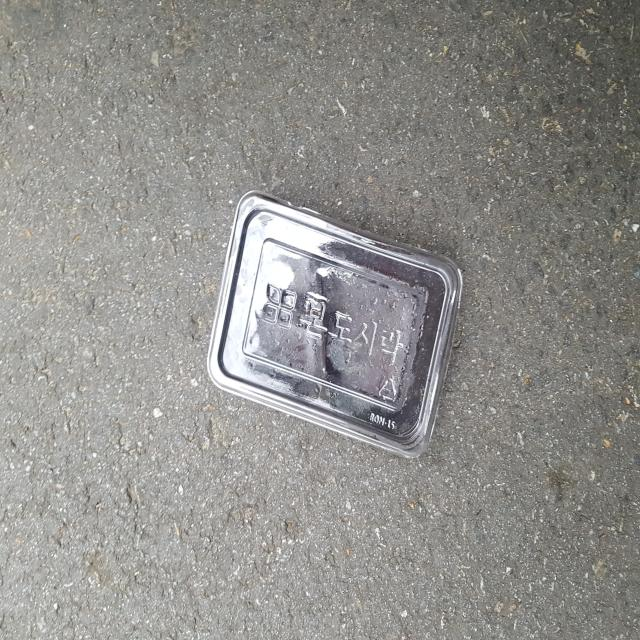plastic: (206, 192, 463, 462)
